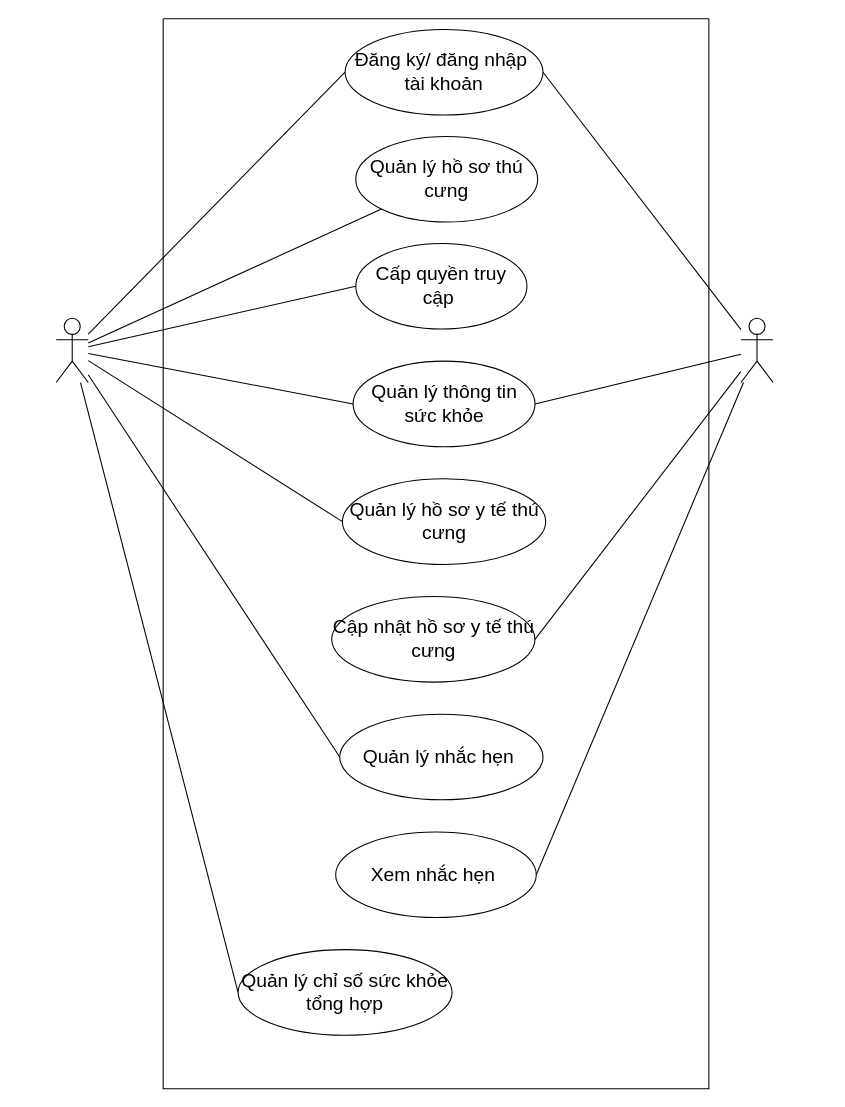
The diagram is 845 pixels wide and 1107 high, and some of its shapes have lost their labels. The centre of each missing label's shape, as x and y in pixels:
Người chăm hộ: the point at 756,350
Người dùng: the point at 71,350
